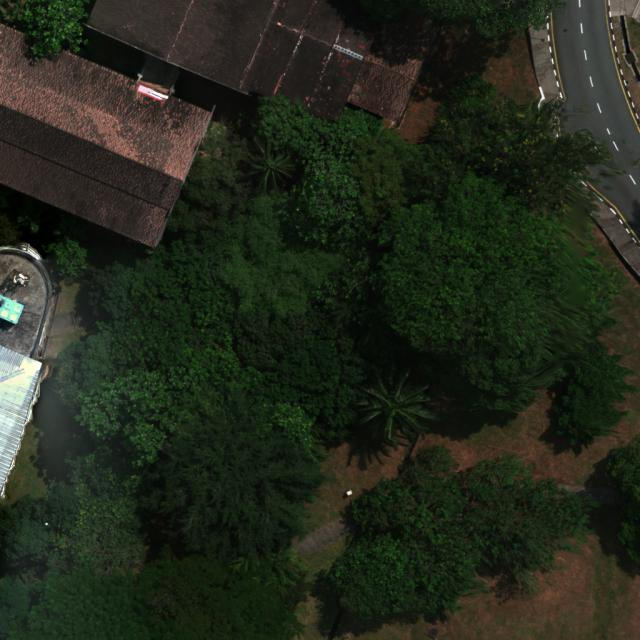tree: (46, 237, 240, 469), (376, 170, 624, 349), (350, 445, 604, 597), (136, 390, 326, 555), (29, 541, 311, 640), (436, 76, 612, 190), (254, 93, 380, 250), (233, 311, 368, 446), (215, 191, 349, 316), (324, 533, 491, 625), (348, 133, 454, 218), (358, 0, 566, 40), (352, 362, 444, 450), (556, 350, 636, 449), (0, 480, 85, 572), (166, 153, 250, 236), (0, 0, 91, 64), (604, 431, 640, 568), (237, 134, 300, 196), (45, 235, 89, 279), (13, 198, 44, 233)
